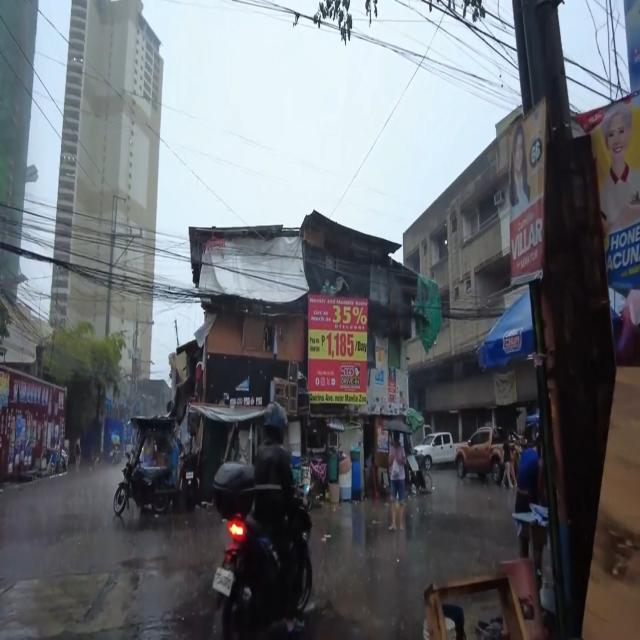full: (262, 400, 288, 442)
